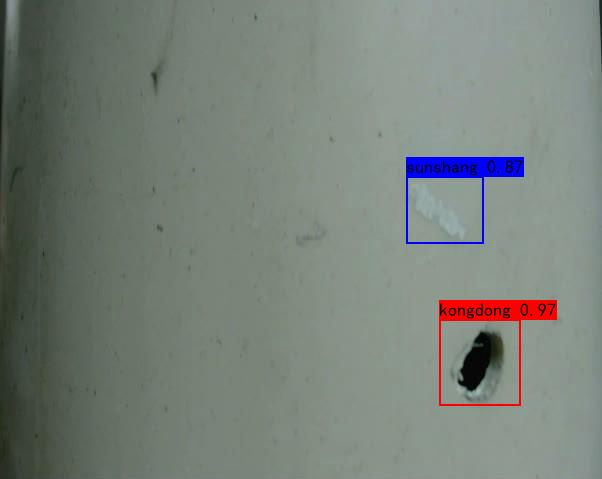kongdong: (448, 315, 513, 407)
